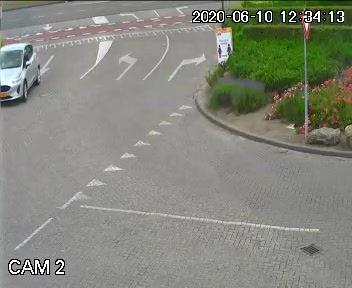car: (0, 41, 45, 106)
